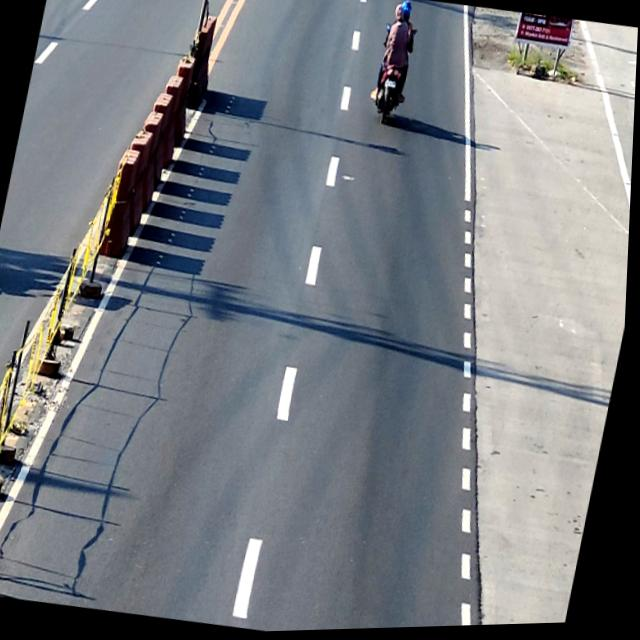License-Plate: (384, 80, 397, 91)
Motorcycle: (367, 24, 419, 129)
